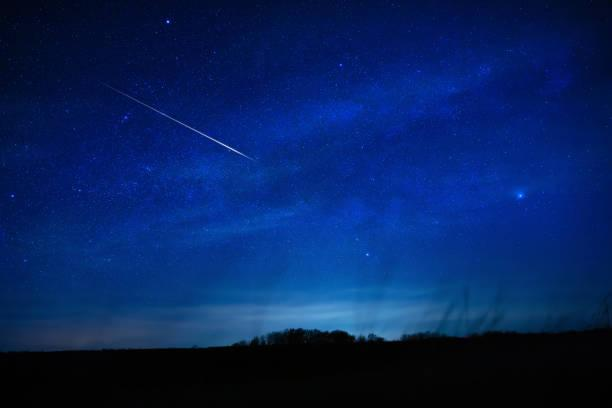meteor: (232, 147, 268, 172)
